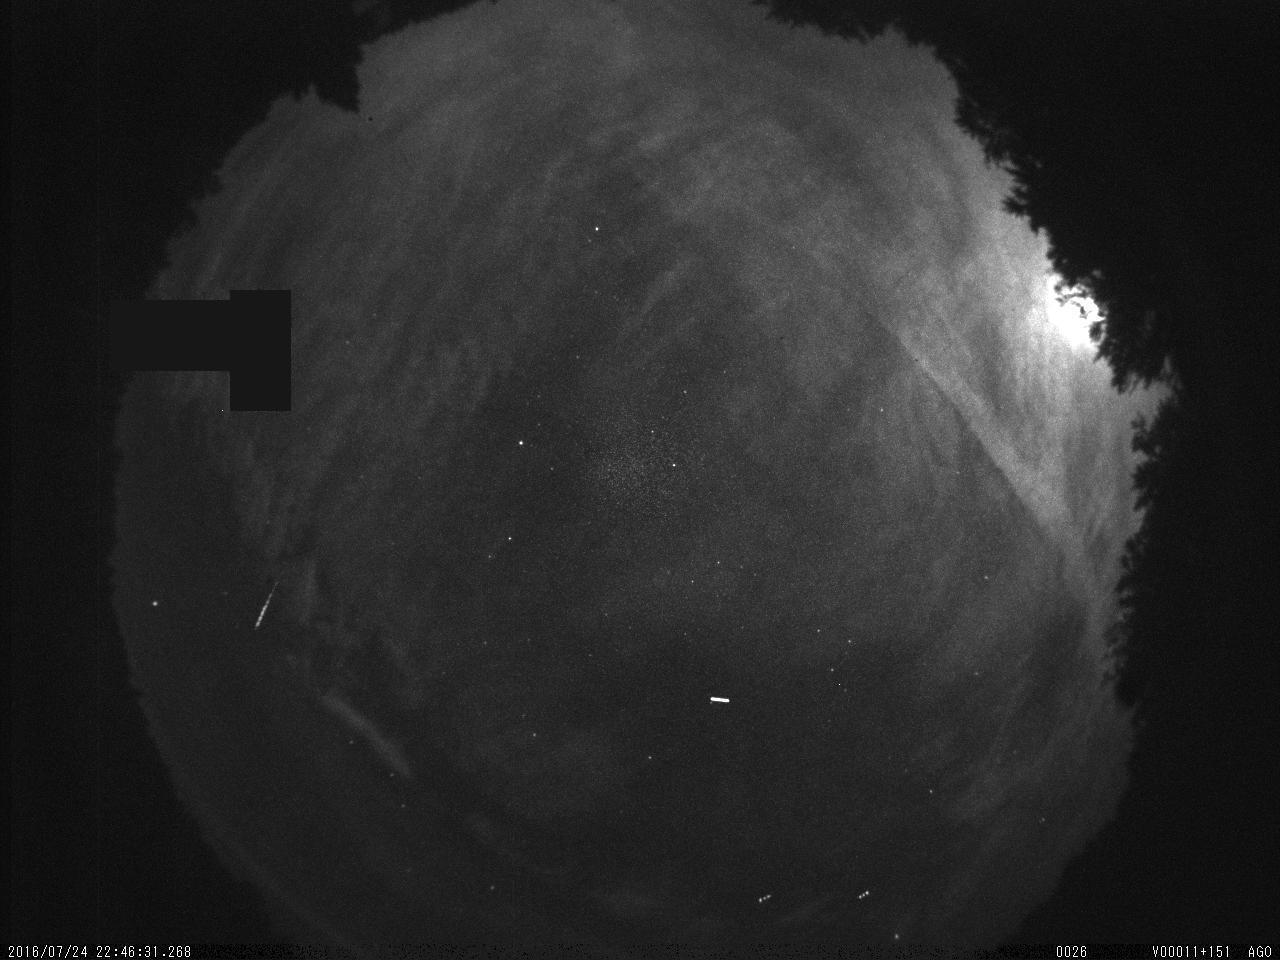meteor: (243, 572, 290, 639)
satelite: (708, 690, 736, 712), (756, 889, 778, 906), (855, 886, 876, 903)
